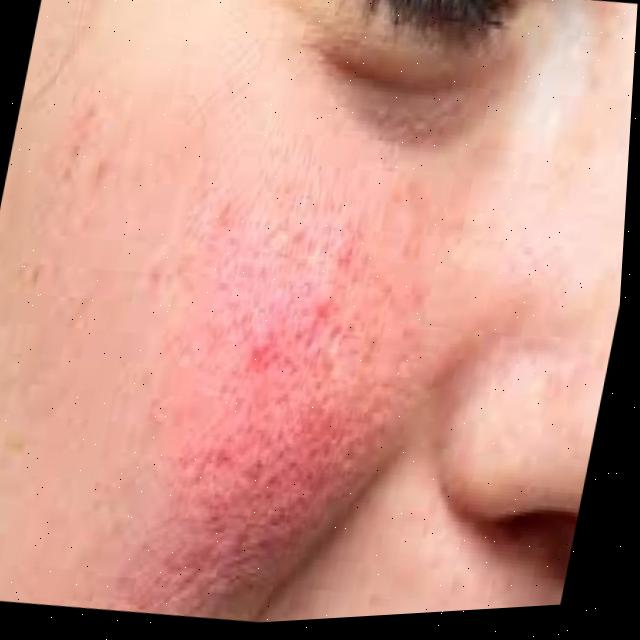Rosacea: (145, 189, 434, 542)
